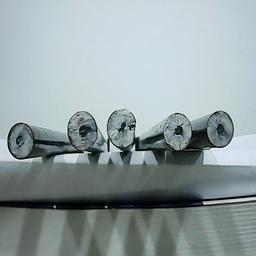pen: (6, 122, 36, 156), (205, 112, 235, 146), (163, 113, 193, 147), (105, 111, 135, 145), (66, 111, 96, 145)
